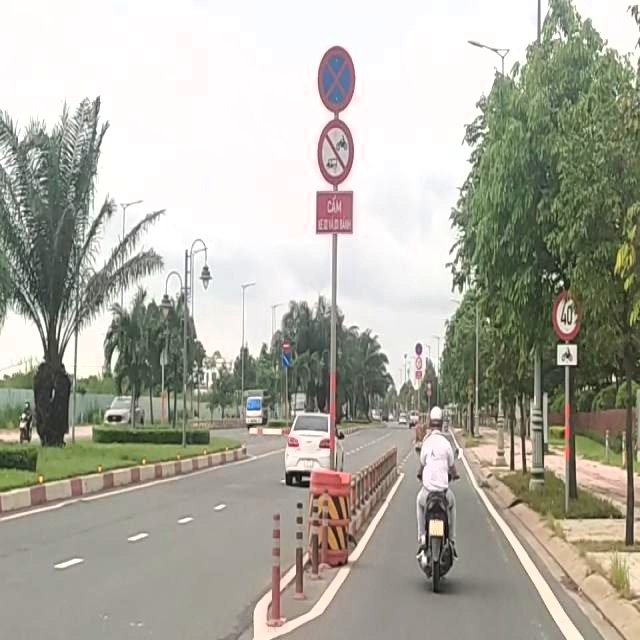P.111: (314, 116, 356, 186)
P.127*40: (553, 288, 583, 342)
P.130: (314, 37, 356, 114)
S.505a*Xe may: (555, 338, 579, 366)
